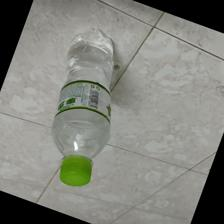Dasani: (52, 25, 118, 188)
